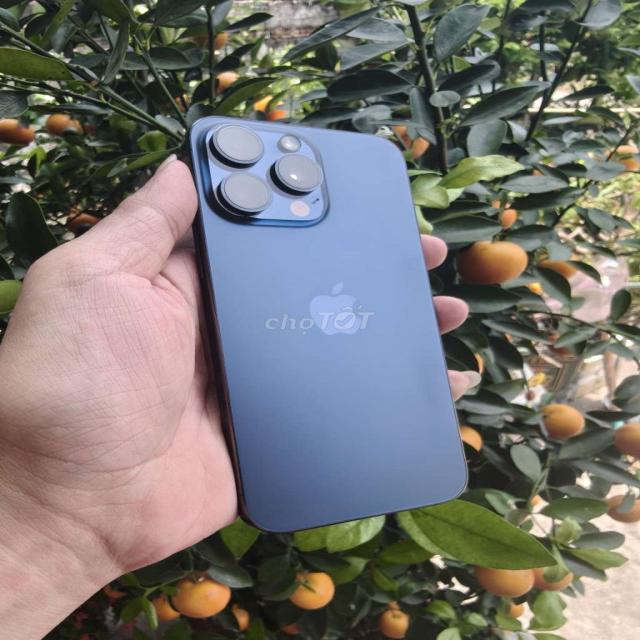gen_15: (168, 100, 487, 556)
